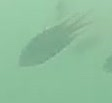smallfish: (13, 1, 95, 71)
